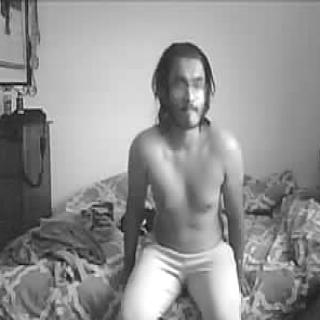White Sweatpants: (115, 243, 242, 320)
